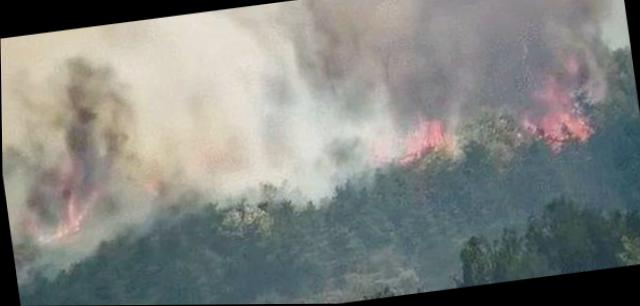fire: (517, 74, 596, 154), (19, 163, 93, 248), (366, 108, 453, 176)
